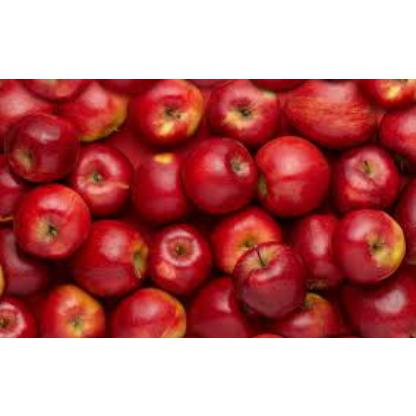apple: (330, 206, 408, 283), (73, 212, 146, 294), (257, 129, 327, 213), (188, 134, 258, 212), (14, 188, 90, 258), (284, 82, 372, 142), (70, 145, 140, 215), (208, 201, 278, 271), (228, 242, 302, 308), (127, 82, 207, 142), (36, 278, 115, 336), (287, 208, 347, 284), (8, 112, 76, 176), (142, 223, 209, 287), (332, 147, 396, 211), (133, 150, 191, 220), (212, 81, 278, 136), (115, 286, 186, 334)
